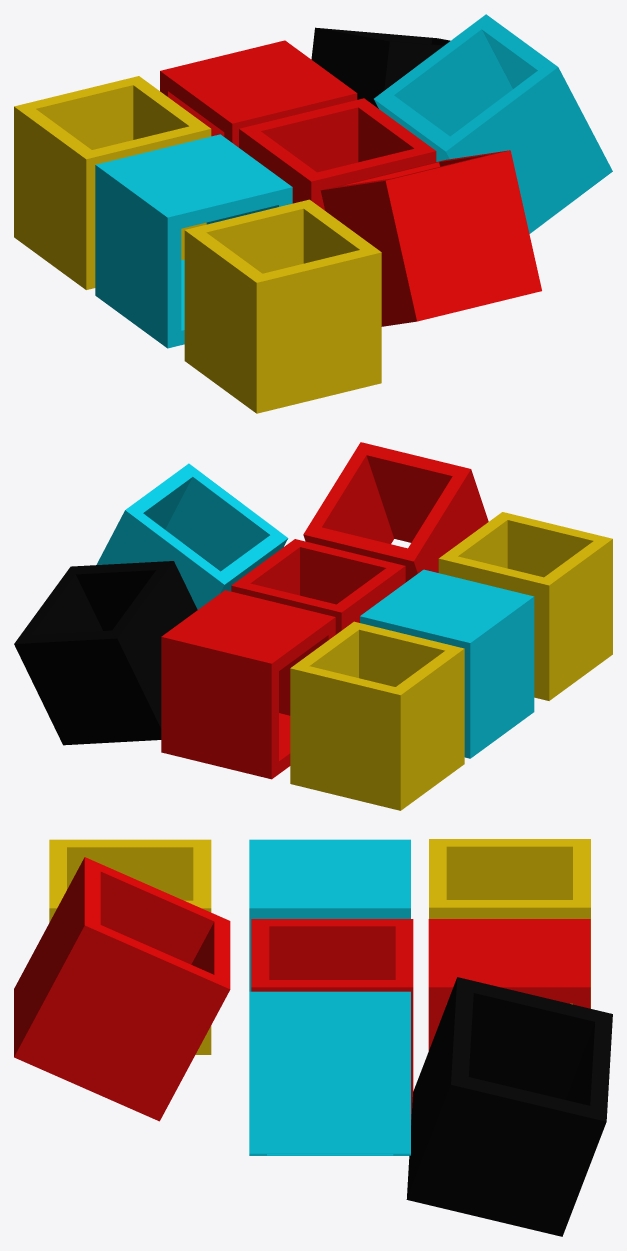
Rendered from model plastic sleeve3.fbx.
3 views of the same model, one above another, from view 1: azimuth 30°, elevation 25°; view 2: azimuth 150°, elevation 25°; view 3: azimuth 270°, elevation 25° (orthographic). The views are drawn at different scales.
Parts seen in each view (by area): view 1: polySurface12; view 2: polySurface12; view 3: polySurface12.
Part boxes in pixels (x1,y1,x2,y2): polySurface12: (14, 14, 612, 413); polySurface12: (14, 442, 612, 810); polySurface12: (14, 839, 612, 1236).
Size of the model in its own units: 13.75 by 6.4 by 14.25.
